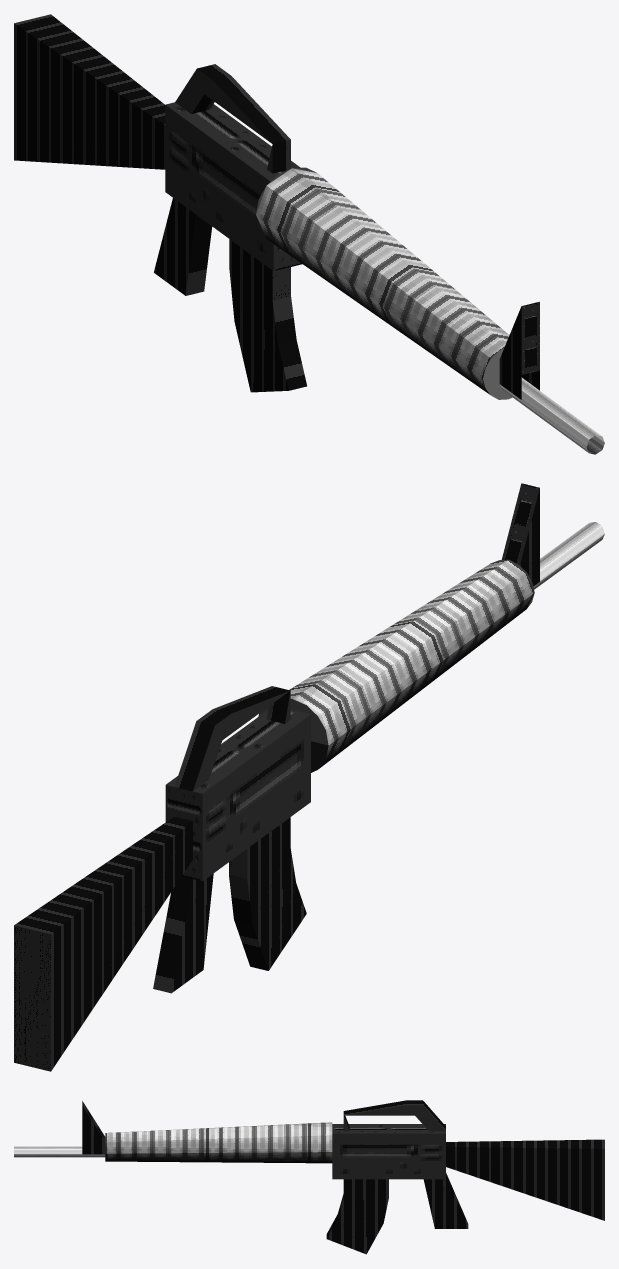
The model's file is gun.glb.
The picture shows the model from 3 angles, top to bottom: view 1: azimuth 30°, elevation 25°; view 2: azimuth 150°, elevation 25°; view 3: azimuth 270°, elevation 25°; orthographic projection. The views are drawn at different scales.
Parts seen in each view (by area): view 1: Room0F_primary, Room11_primary, Room17_primary, Room15_primary, Room14_primary, Room0B_primary, Room1B_primary, Room0D_secondary, Room1A_primary, Room1C_primary, Room0C_primary; view 2: Room11_primary, Room0F_primary, Room17_primary, Room15_primary, Room14_primary, Room1A_primary, Room0D_secondary, Room0B_primary, Room1B_primary; view 3: Room11_primary, Room0F_primary, Room17_primary, Room15_primary, Room14_primary, Room0B_primary, Room1B_primary, Room1A_primary, Room0D_secondary, Room0A_primary.
Part boxes in pixels (left/top/right/bottom): Room0F_primary: left=256, top=167, right=512, bottom=399; Room11_primary: left=14, top=14, right=165, bottom=169; Room17_primary: left=165, top=102, right=302, bottom=271; Room15_primary: left=229, top=239, right=306, bottom=392; Room14_primary: left=154, top=198, right=212, bottom=295; Room0B_primary: left=500, top=377, right=604, bottom=454; Room1B_primary: left=204, top=76, right=290, bottom=143; Room0D_secondary: left=500, top=301, right=539, bottom=374; Room1A_primary: left=175, top=64, right=230, bottom=113; Room1C_primary: left=267, top=139, right=290, bottom=173; Room0C_primary: left=499, top=359, right=521, bottom=399; Room11_primary: left=14, top=816, right=192, bottom=1071; Room0F_primary: left=258, top=559, right=534, bottom=772; Room17_primary: left=165, top=709, right=310, bottom=881; Room15_primary: left=229, top=817, right=306, bottom=970; Room14_primary: left=153, top=873, right=213, bottom=993; Room1A_primary: left=174, top=709, right=230, bottom=791; Room0D_secondary: left=501, top=483, right=539, bottom=568; Room0B_primary: left=533, top=522, right=604, bottom=589; Room1B_primary: left=213, top=686, right=290, bottom=739; Room11_primary: left=446, top=1139, right=604, bottom=1220; Room0F_primary: left=105, top=1122, right=332, bottom=1163; Room17_primary: left=332, top=1124, right=445, bottom=1179; Room15_primary: left=326, top=1179, right=388, bottom=1254; Room14_primary: left=423, top=1173, right=468, bottom=1228; Room0B_primary: left=14, top=1146, right=105, bottom=1157; Room1B_primary: left=343, top=1100, right=414, bottom=1115; Room1A_primary: left=406, top=1100, right=445, bottom=1131; Room0D_secondary: left=82, top=1101, right=105, bottom=1141; Room0A_primary: left=82, top=1141, right=105, bottom=1154.
Bounding box in the file's own units: 82 × 309 × 1108.
Materials: 8 (8 with a texture image).
